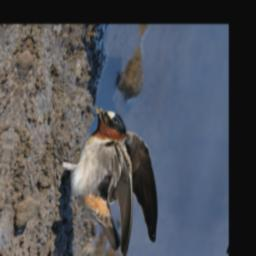Swallow: (33, 101, 180, 256)
